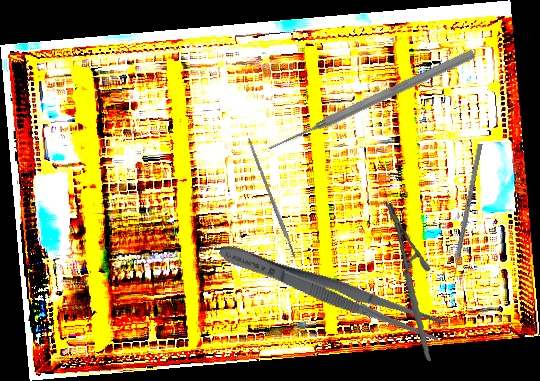Dressing Forceps: (214, 235, 447, 346)
Needle Holder: (371, 202, 445, 361)
Pusher: (265, 46, 477, 156), (449, 143, 483, 290)
Scalpel Handle: (246, 137, 297, 260)
